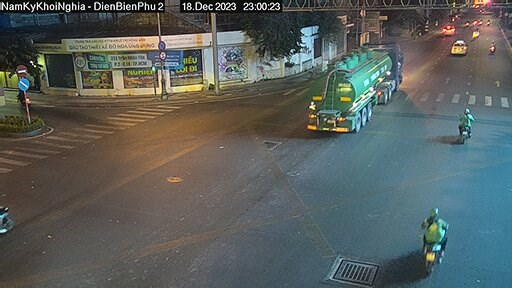car: (448, 38, 471, 55), (443, 22, 457, 35)
motorbike: (419, 205, 451, 270), (456, 110, 470, 138), (487, 38, 499, 53)
